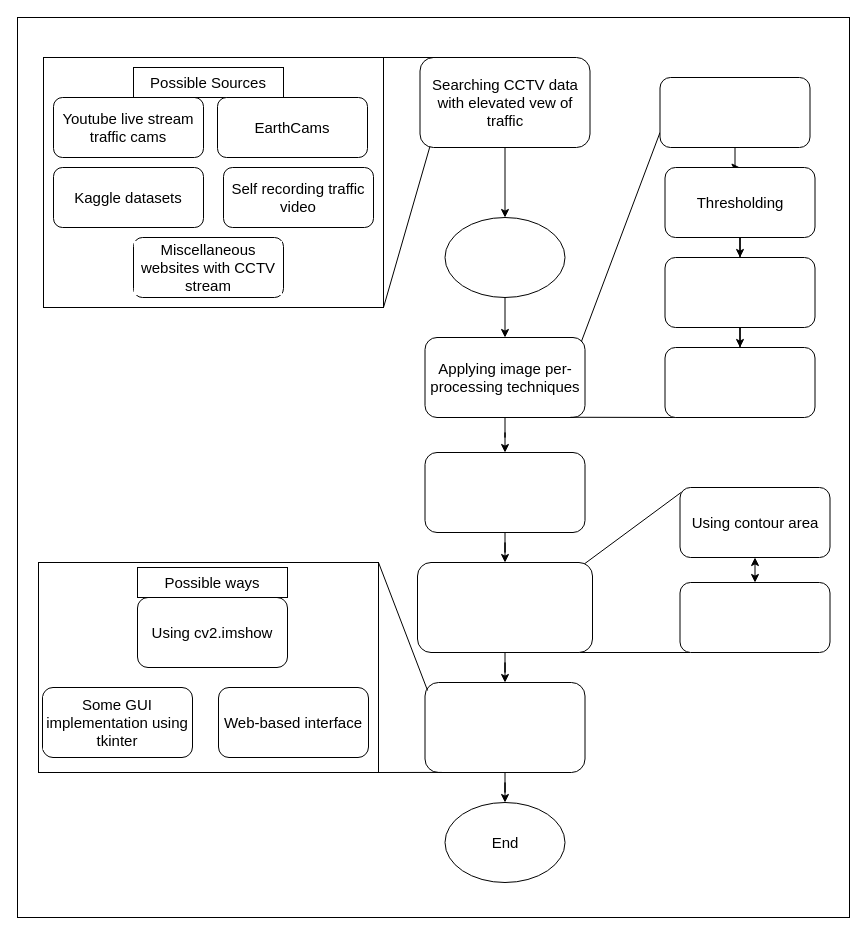
Image size: 867x935. Some labels were removed from this diagram. Here are the shapes that lost their labels. From the top down, the box of each, then its label:
(659, 76, 810, 148): GrayScale Conversion
(444, 216, 565, 298): Start
(664, 256, 815, 328): Motion Detection by frame delta
(664, 346, 815, 418): Noise removal and direction estimations by kalman filtering
(424, 452, 585, 532): Segmenting objects in motion
(416, 562, 592, 652): Detecting the type of vehicle using image-processing techniques only
(679, 582, 830, 652): Using bounding-box dimension ratios
(424, 682, 585, 772): Display frames, bounding boxes and other information to user.
